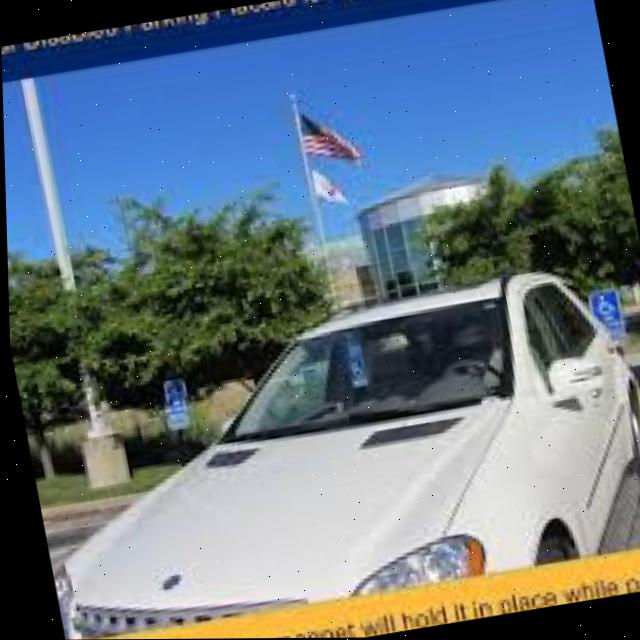symbol_of_access: (591, 293, 617, 321), (160, 384, 184, 410), (347, 360, 362, 380)
